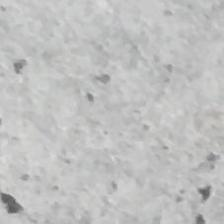Non_Crack: (31, 25, 224, 216)
